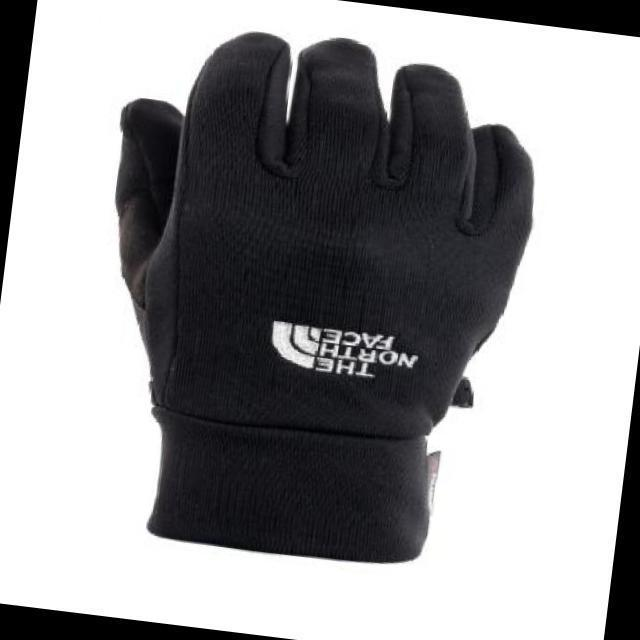glove: (100, 16, 543, 566)
